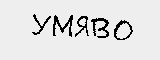В: (91, 16, 112, 41)
М: (51, 12, 74, 40)
О: (114, 18, 132, 44)
У: (32, 13, 51, 37)
Я: (76, 13, 90, 38)
